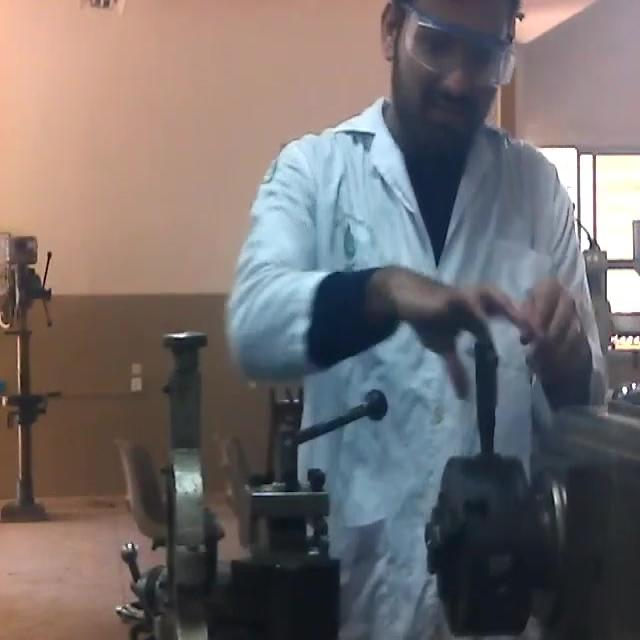googles: (394, 5, 530, 93)
labcoat: (233, 103, 612, 637)
